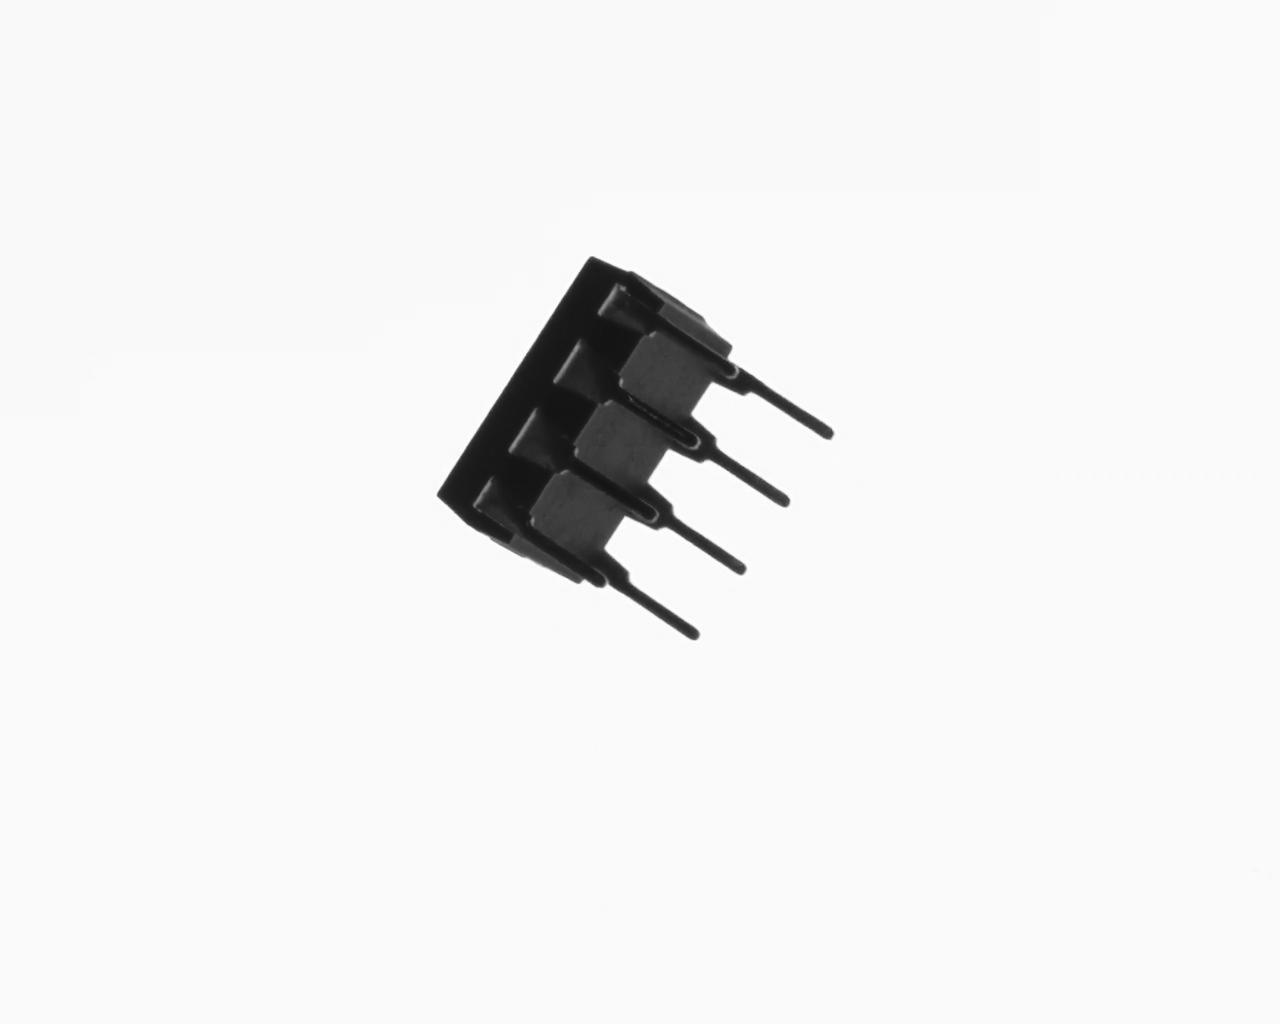Leg: (633, 277, 740, 382), (642, 486, 750, 577), (695, 416, 794, 514), (602, 363, 704, 455), (563, 432, 659, 526), (612, 550, 703, 645), (508, 505, 606, 590), (738, 355, 836, 441)
